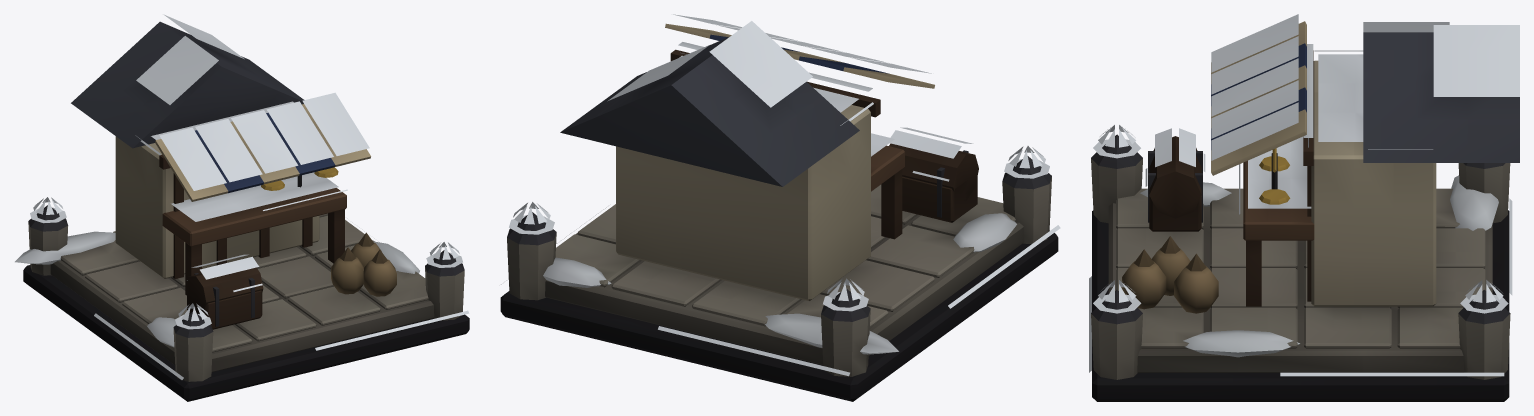
The model's file is alliance-6.glb.
3 renders of one model, left to right at view 1: azimuth 30°, elevation 25°; view 2: azimuth 150°, elevation 25°; view 3: azimuth 270°, elevation 25°, orthographic. The views are drawn at different scales.
Parts seen in each view (by area): view 1: aubeval_6_architecture; view 2: aubeval_6_architecture; view 3: aubeval_6_architecture, Orbe_peint.
Part boxes in pixels (x1,y1,x2,y2): aubeval_6_architecture: (15,14,469,401); aubeval_6_architecture: (500,14,1060,401); aubeval_6_architecture: (1089,14,1519,401); Orbe_peint: (1259,148,1290,204).
Bounding box in the file's own units: 0.8655 × 0.6188 × 0.8254.
